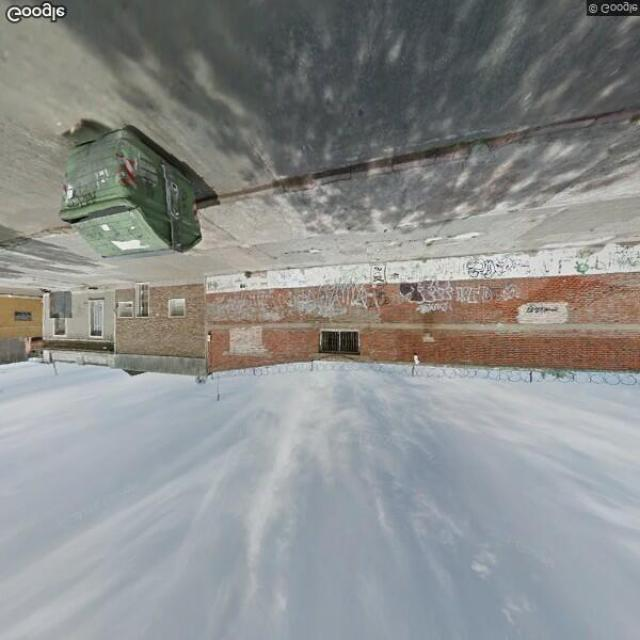garbage container: (50, 112, 231, 274)
